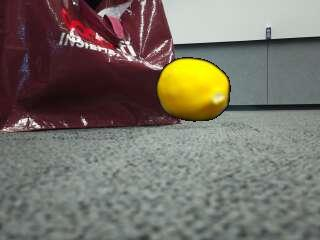lemon: (157, 58, 228, 120)
